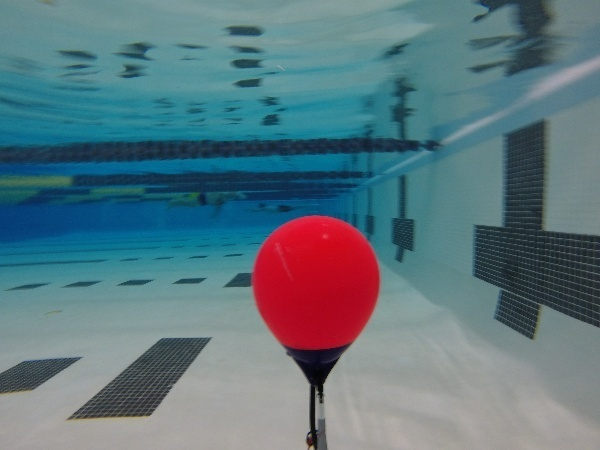buoy_red: (249, 211, 380, 392)
